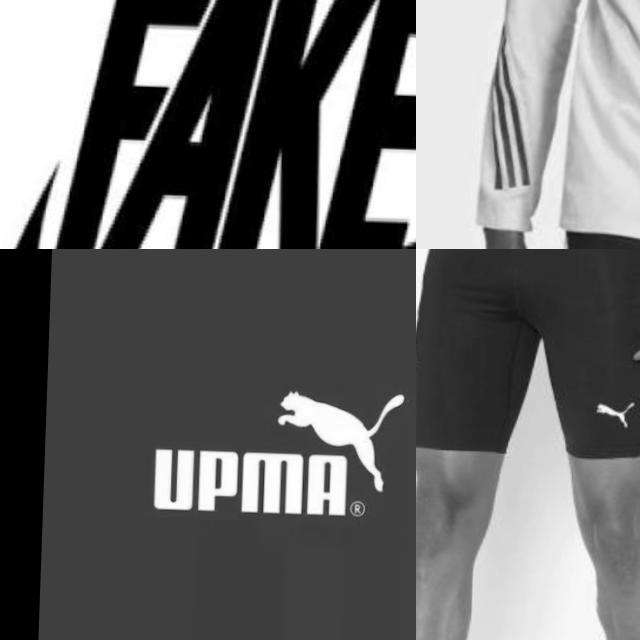NIKE_fake: (0, 0, 416, 249)
PUMA_fake: (117, 367, 416, 546)
PUMA_original: (585, 382, 640, 444)
